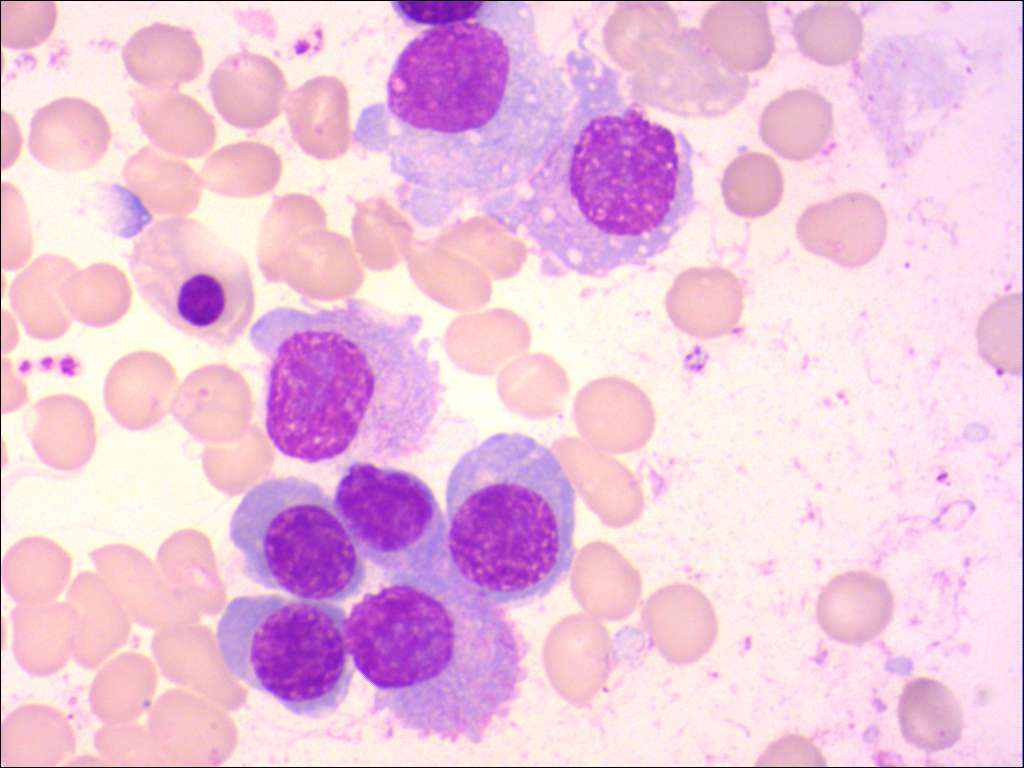23: (440, 428, 578, 608), (214, 590, 359, 727), (226, 472, 372, 605)
24: (164, 262, 238, 335)
51: (476, 32, 700, 283), (350, 19, 578, 232), (338, 570, 537, 748)
x: (245, 293, 454, 473), (327, 458, 450, 580)
